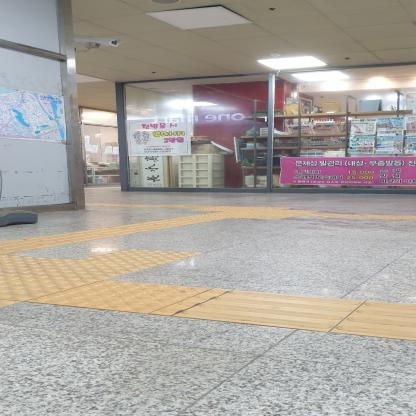go: (170, 290, 366, 333), (22, 233, 120, 242), (70, 227, 157, 236), (106, 223, 185, 230), (138, 219, 209, 225)
stop: (24, 279, 213, 314), (9, 260, 161, 280), (78, 249, 203, 265)
